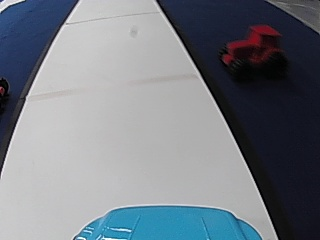tractor: (216, 22, 287, 82)
